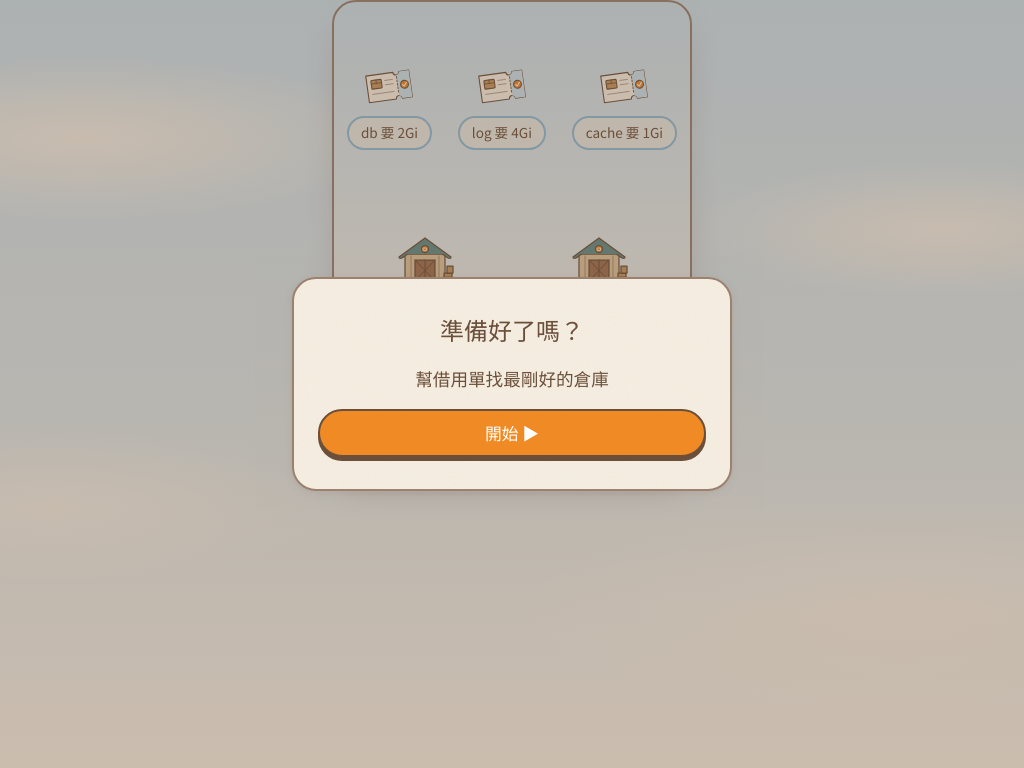
Test: Day22Game › 點借用單下方的需求標籤，等同點借用單
The width and height of the screenshot is (1024, 768).
Step 1. Click the button with test id "shell-start" → click(512, 433), box [318, 409, 706, 457]
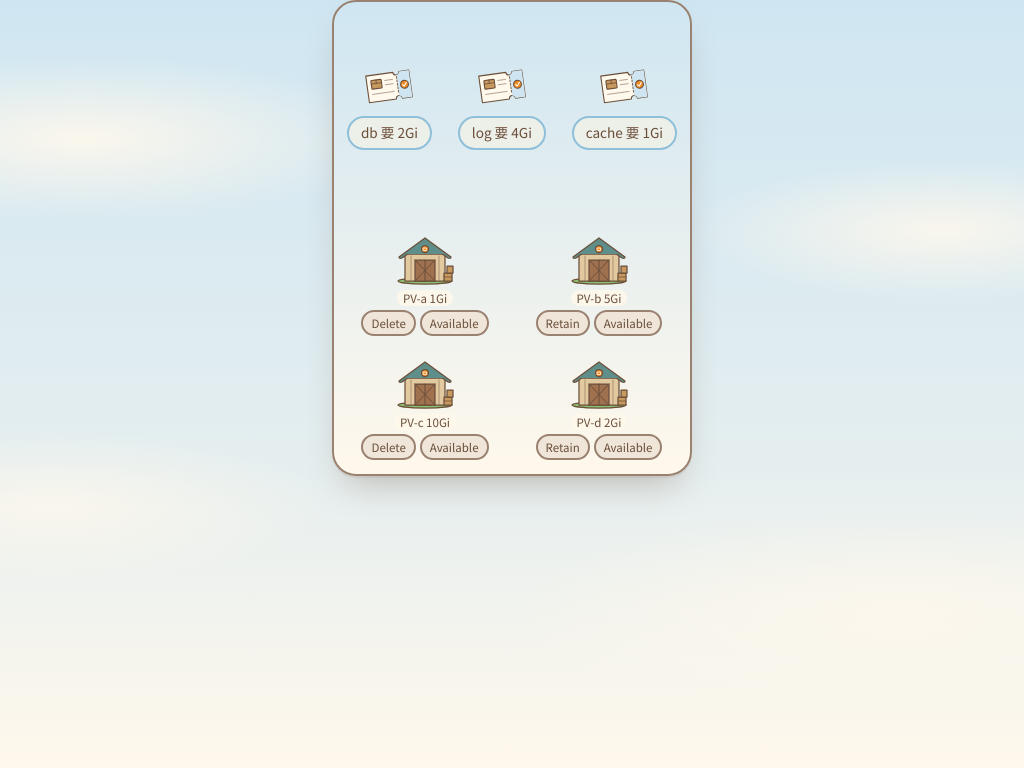
Step 2. Click the button "db 要 2Gi" → click(390, 133), box [347, 116, 432, 150]
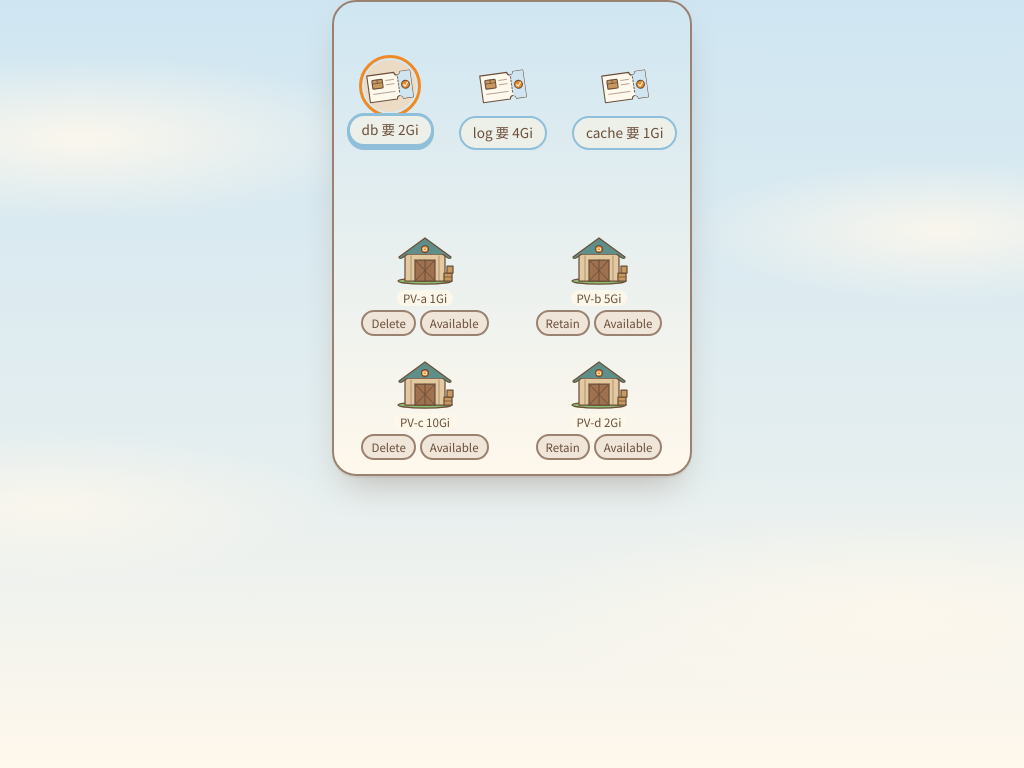
Step 3. Click the button "PV-d 2Gi" → click(599, 391), box [569, 352, 629, 430]
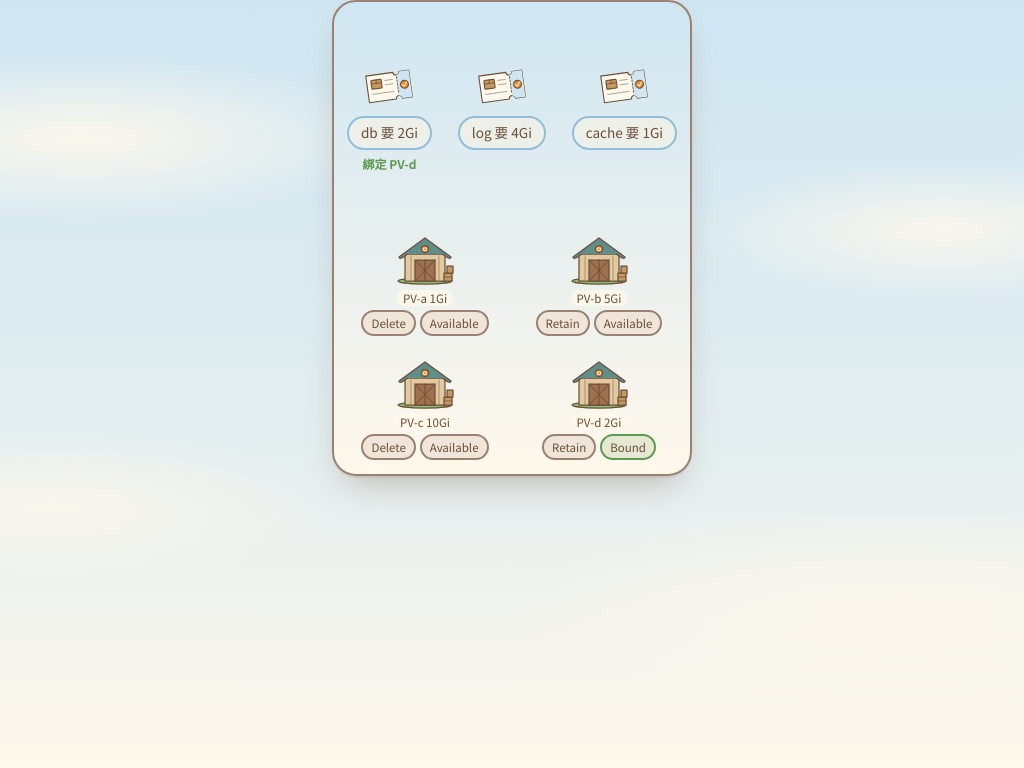
Now the text with test id "bound-db" shows "PV-d", box [362, 155, 416, 172]
